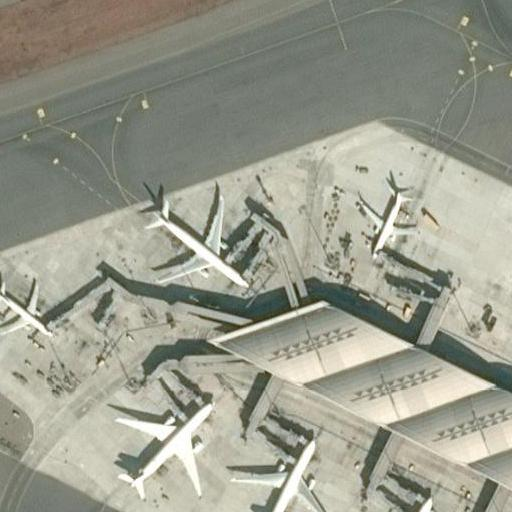Aircraft: (99, 382, 219, 501), (133, 180, 253, 295), (227, 427, 329, 512), (357, 174, 418, 252), (0, 272, 55, 348), (339, 485, 449, 512)
